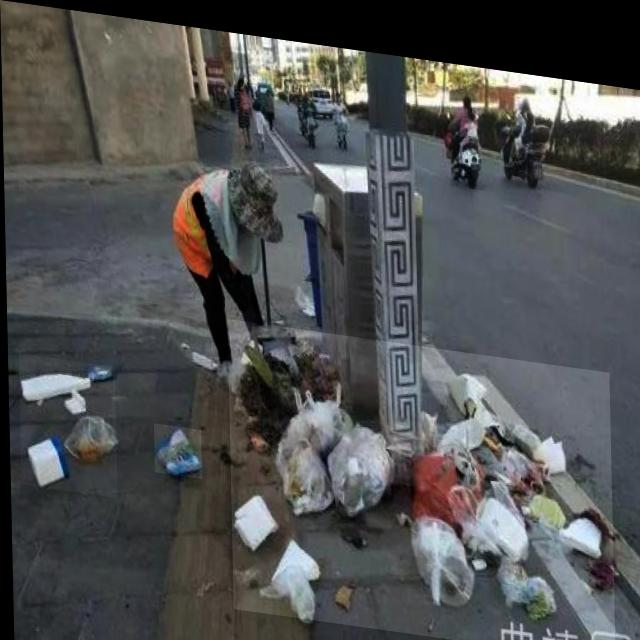garbage: (226, 313, 613, 640), (18, 353, 116, 495), (152, 419, 200, 473)
